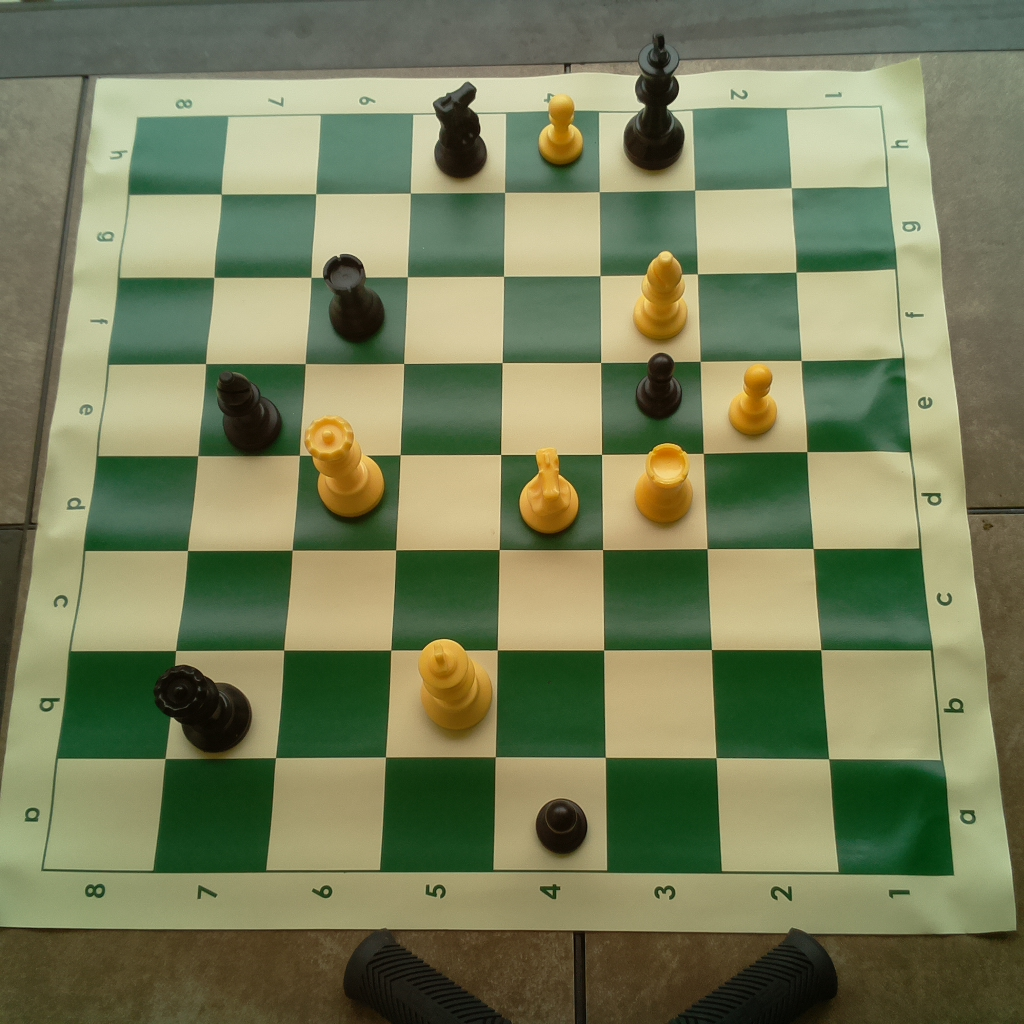black_bishop: (218, 361, 283, 449)
black_king: (616, 31, 689, 171)
black_knight: (425, 74, 492, 178)
black_pawn: (629, 348, 689, 422), (531, 793, 593, 856)
black_queen: (150, 657, 257, 756)
black_rook: (316, 251, 393, 345)
file_a: (42, 758, 951, 875)
file_b: (59, 652, 944, 761)
file_c: (72, 551, 933, 652)
file_d: (84, 449, 921, 547)
file_e: (98, 358, 912, 449)
file_f: (106, 267, 902, 360)
file_g: (116, 188, 897, 279)
file_h: (128, 104, 888, 199)
outline: (41, 105, 954, 873)
rank_1: (789, 104, 954, 873)
rank_2: (692, 108, 840, 875)
rank_3: (598, 106, 725, 874)
rank_4: (493, 114, 607, 869)
rank_5: (377, 113, 508, 874)
rank_6: (263, 114, 415, 875)
rank_7: (155, 115, 324, 871)
rank_8: (44, 118, 228, 870)
white_bishop: (632, 245, 689, 343)
white_king: (411, 631, 496, 736)
white_knight: (511, 444, 586, 539)
white_pawn: (725, 360, 783, 438), (536, 93, 589, 171)
white_queen: (299, 409, 389, 521)
white_rook: (628, 439, 696, 525)
